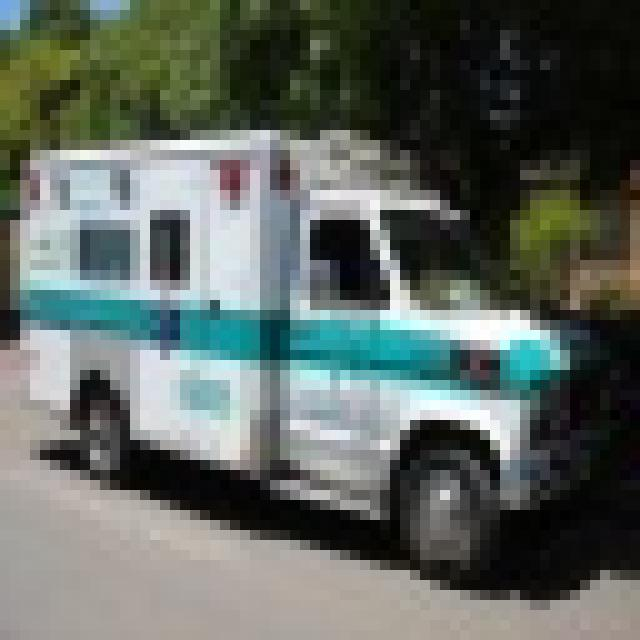Ambulance: (10, 120, 620, 580)
